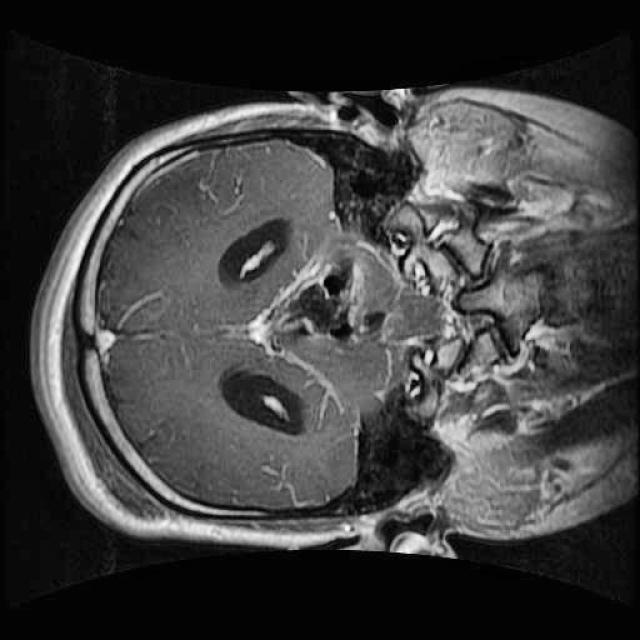Tumor: (256, 235, 394, 366)
